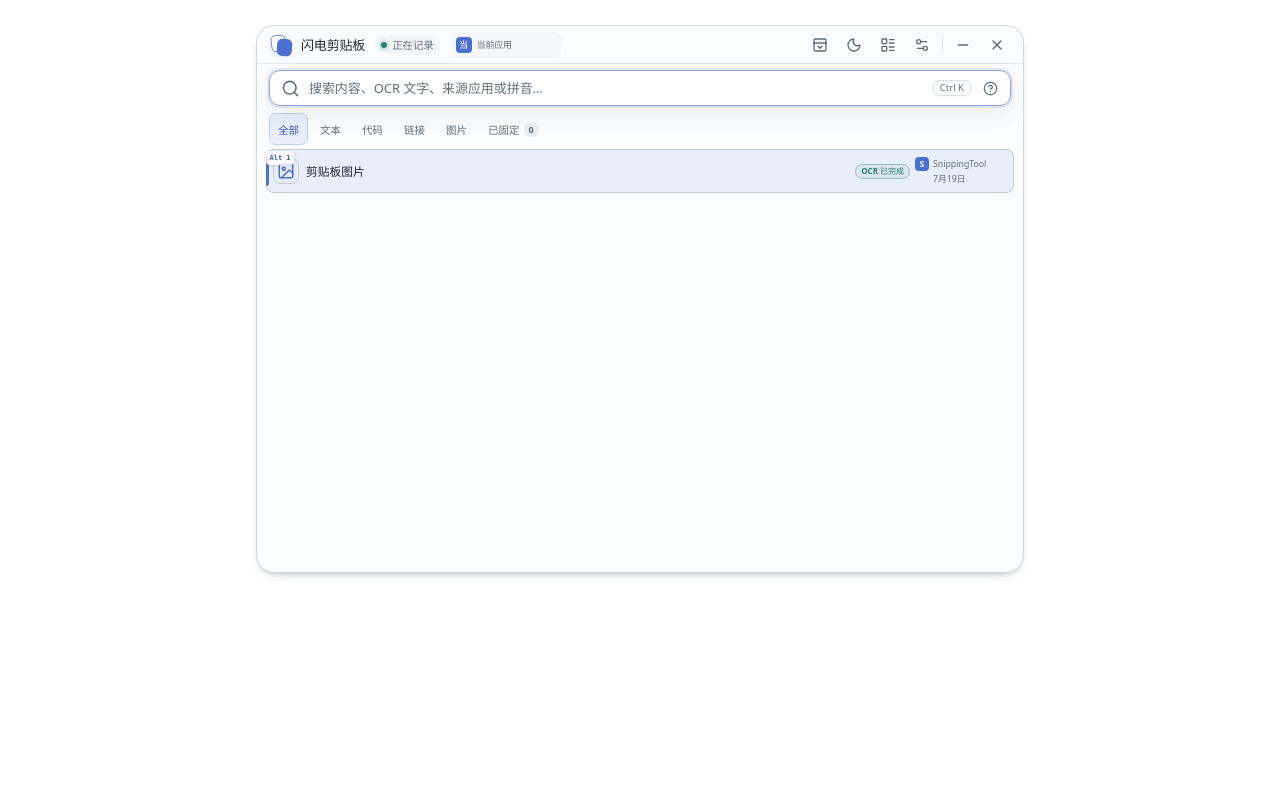
Test case: native setting reliability › applies only OCR metadata and uses native match sources for OCR versus index badges
Click the button with test id "open-library" at point(888, 45), box x1=872 y1=29 x2=904 y2=61
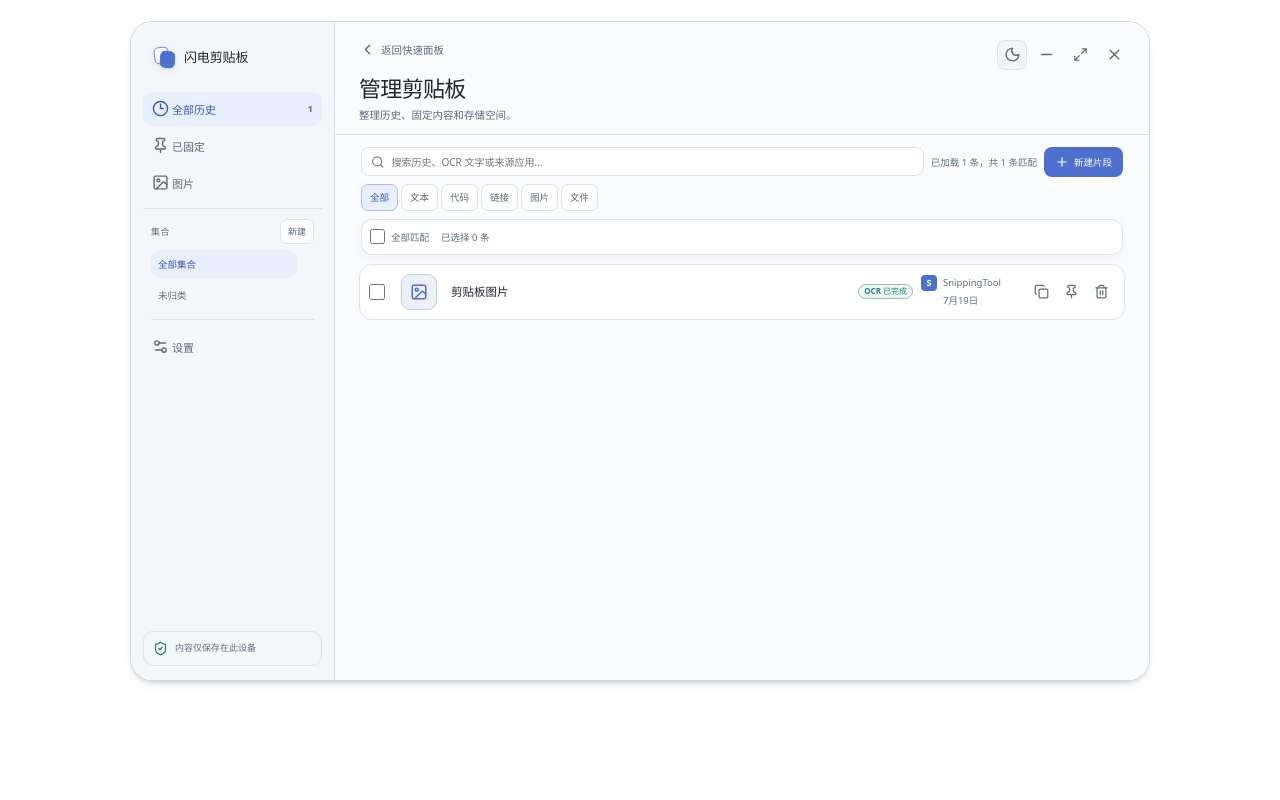
Expected: the text with test id "manager-ocr-status-ocr-image" shows "已完成", x1=864 y1=285 x2=907 y2=296
Type "secret" into the search field with test id "manager-search-input" at point(653, 162), box x1=392 y1=154 x2=914 y2=168
Wait 120 ms
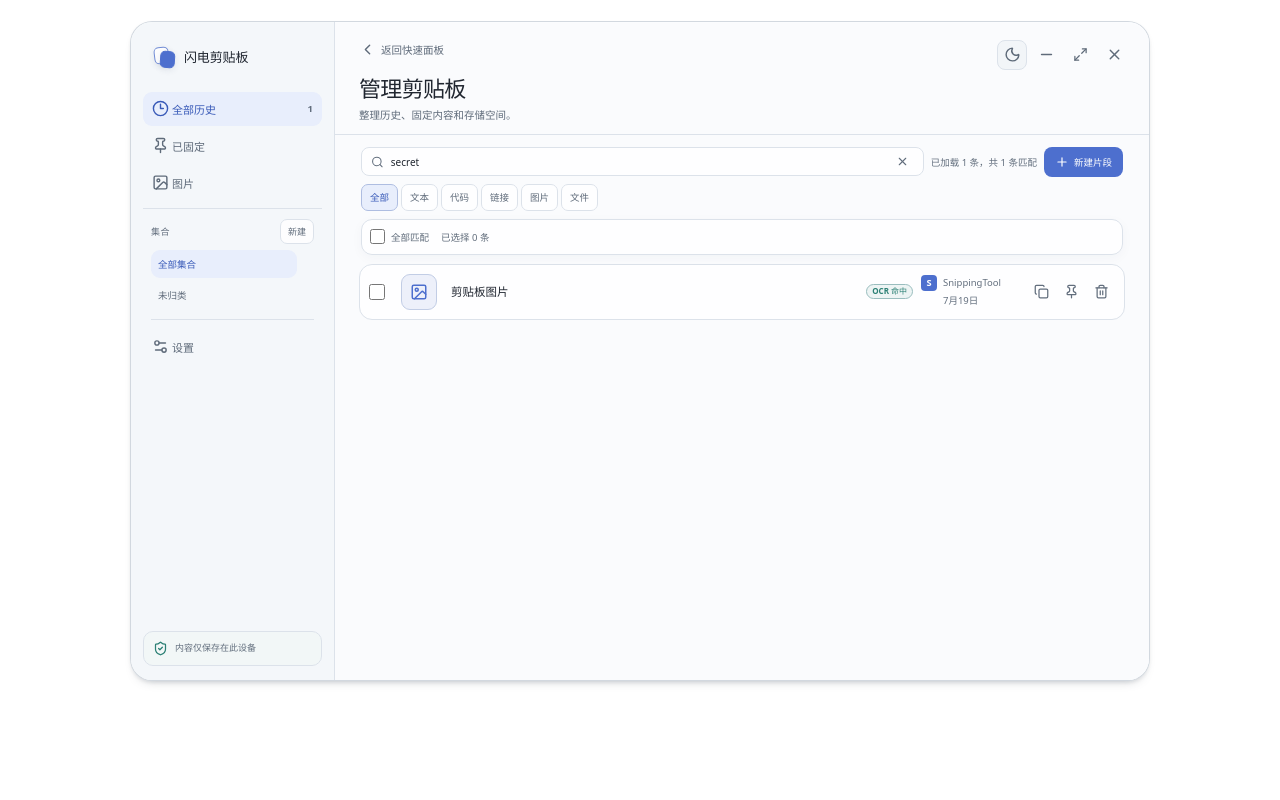
Result: the text with class "ocr-match" reads "OCR 命中" at x1=872 y1=285 x2=907 y2=296
Replace the text in the search field with test id "manager-search-input" with "tupian" at point(638, 162), box x1=391 y1=154 x2=885 y2=168
Wait 120 ms
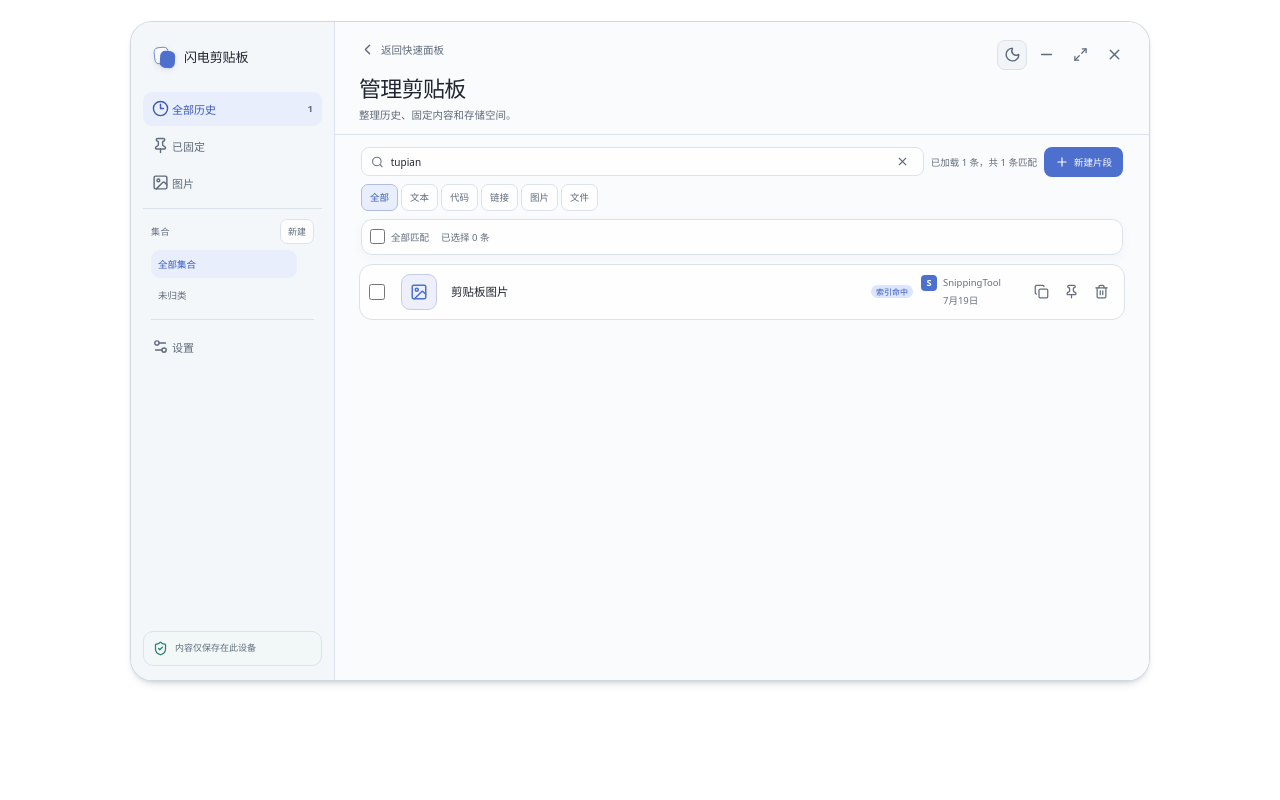
Result: the text "索引命中" is shown at x1=871 y1=285 x2=913 y2=298
Click the button with class "back-button" at point(402, 49), box x1=351 y1=36 x2=452 y2=62
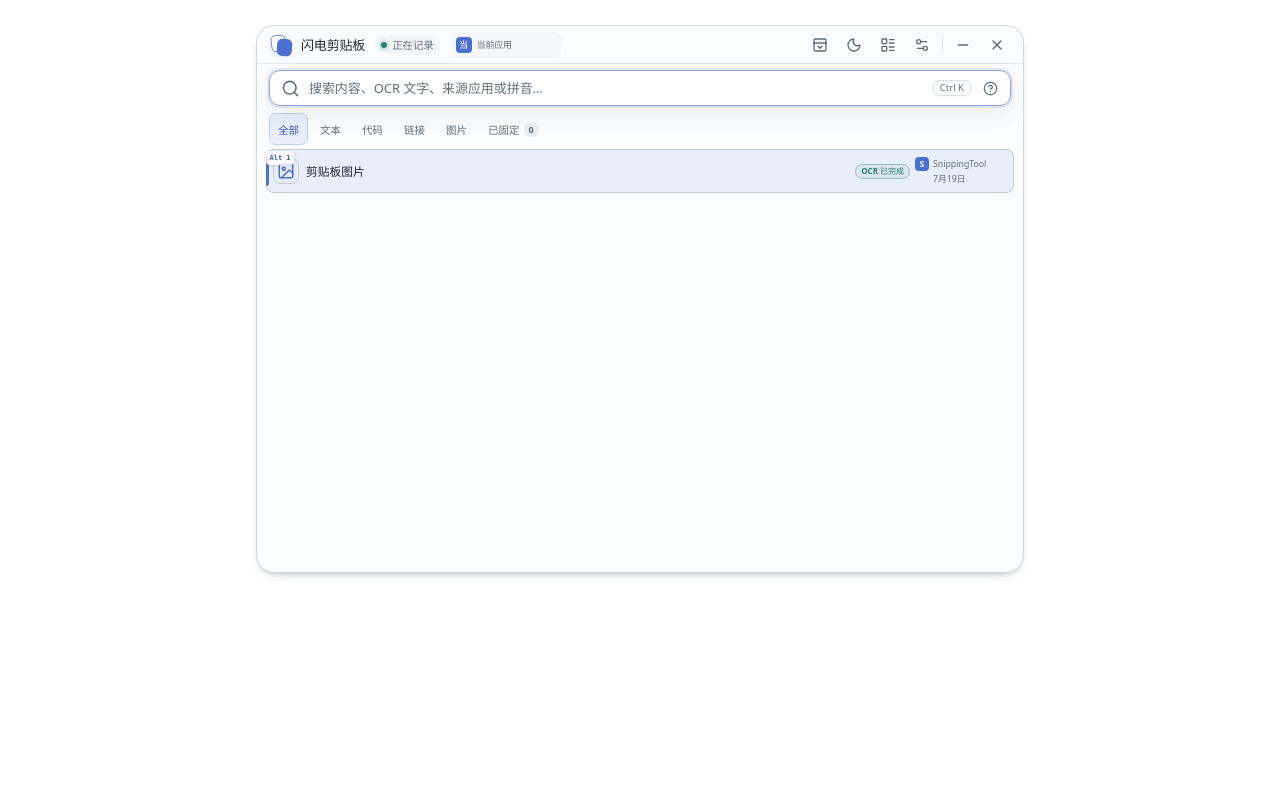
Type "secret" into the dropdown with test id "search-input" at point(640, 88), box x1=269 y1=70 x2=1011 y2=106
Wait 120 ms
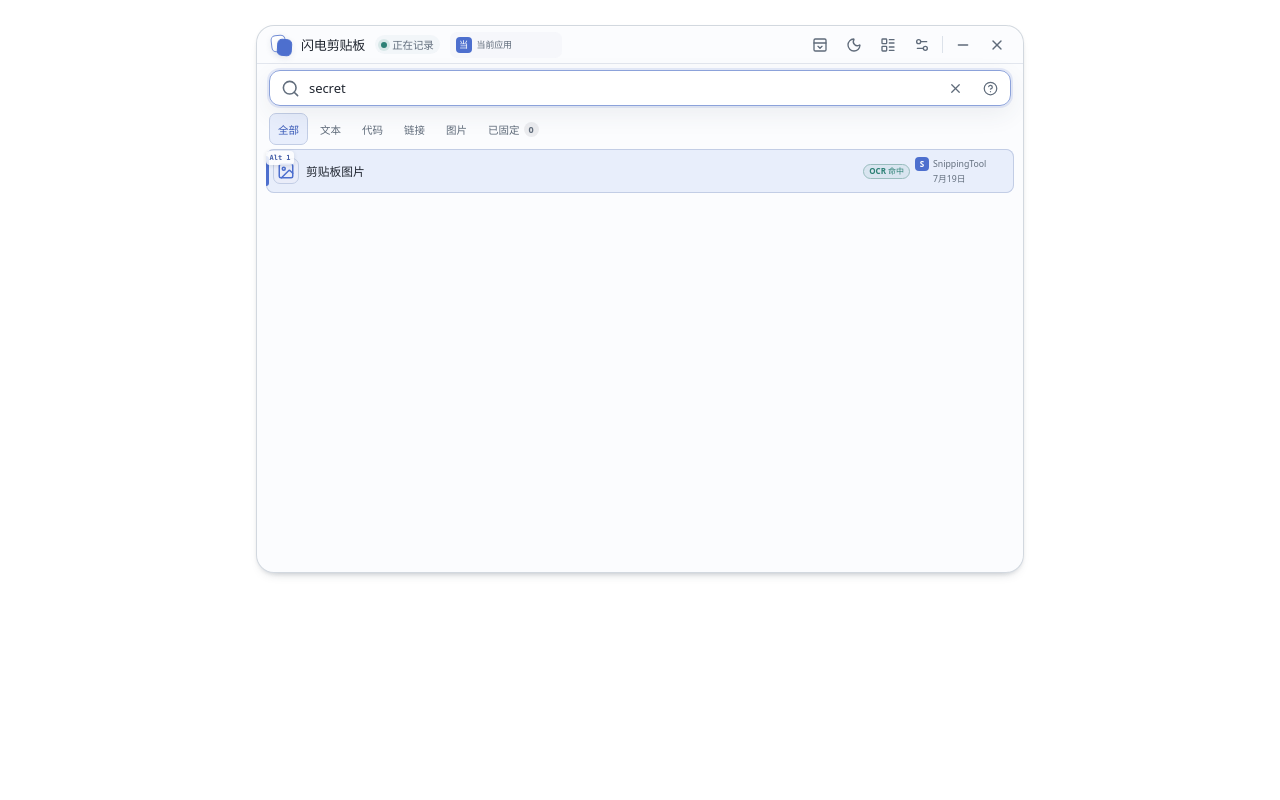
Result: the text with class "ocr-match" reads "OCR 命中" at x1=869 y1=165 x2=904 y2=176
